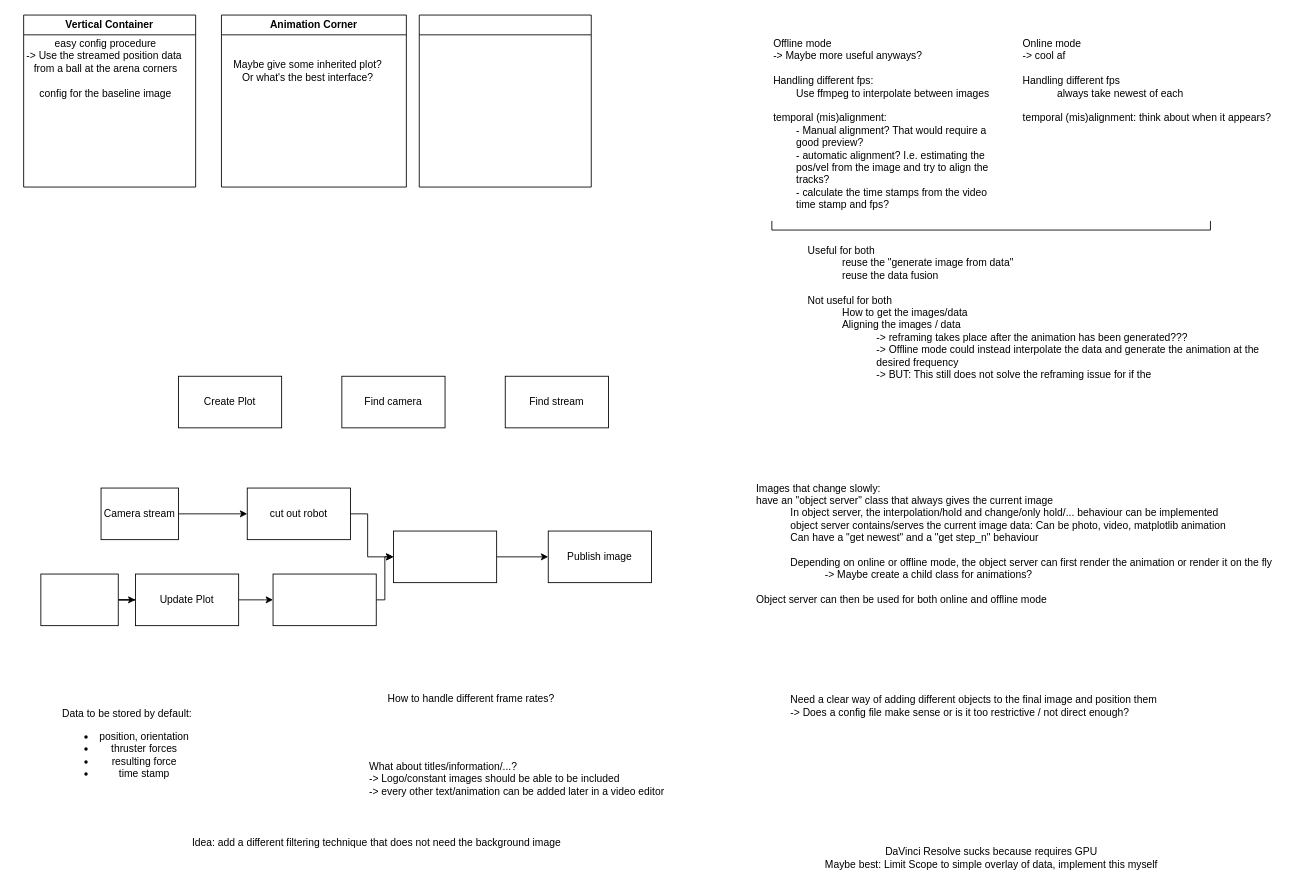
Image size: 1302x890. Some labels were removed from this diagram. The shapes that lost their labels are listed below. From the top down, each one's box as (x1, y1, x2, y2) in pixels, then its label:
(418, 14, 591, 187): Data fusion
(393, 530, 497, 583): Fusion
(40, 573, 118, 626): Position data Other data
(272, 573, 376, 626): Project image
